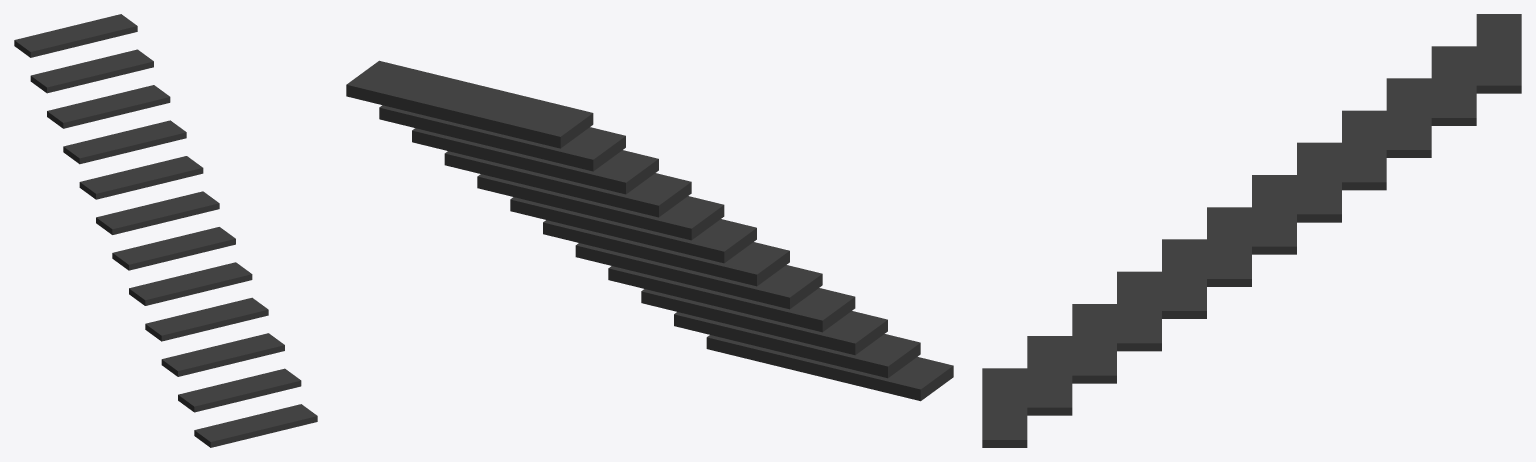
File: Stairs_044.glb
3 renders of one model, left to right at view 1: azimuth 30°, elevation 25°; view 2: azimuth 150°, elevation 25°; view 3: azimuth 270°, elevation 25°, orthographic. The views are drawn at different scales.
Parts seen in each view (by area): view 1: Stairs_044; view 2: Stairs_044; view 3: Stairs_044.
Boxes of the visible parts, x1,y1,x2,y2 form: Stairs_044: (14,14,317,447); Stairs_044: (346,60,953,401); Stairs_044: (982,14,1521,447).
Bounding box in the file's own units: 1.6 × 3.77 × 5.08.
Materials: 1 (1 with a texture image).
